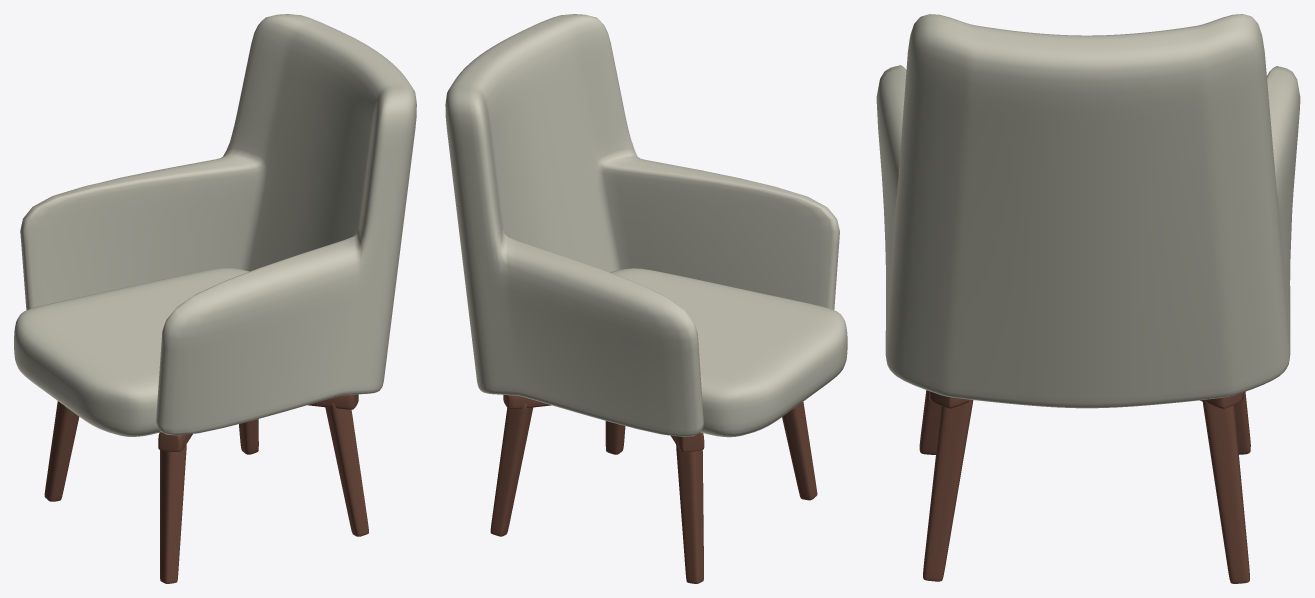
The model's file is Chair.fbx.
3 renders of one model, left to right at view 1: azimuth 30°, elevation 25°; view 2: azimuth 150°, elevation 25°; view 3: azimuth 270°, elevation 25°, orthographic. The views are drawn at different scales.
Parts seen in each view (by area): view 1: pCube54, polySurface20; view 2: pCube54, polySurface20; view 3: pCube54, polySurface20.
Boxes of the visible parts, x1,y1,x2,y2 form: pCube54: [14, 14, 416, 436]; polySurface20: [44, 394, 368, 583]; pCube54: [445, 14, 847, 437]; polySurface20: [490, 395, 817, 583]; pCube54: [876, 14, 1300, 408]; polySurface20: [919, 390, 1250, 583].
Bounding box in the file's own units: 16.99 × 20.95 × 13.78.
